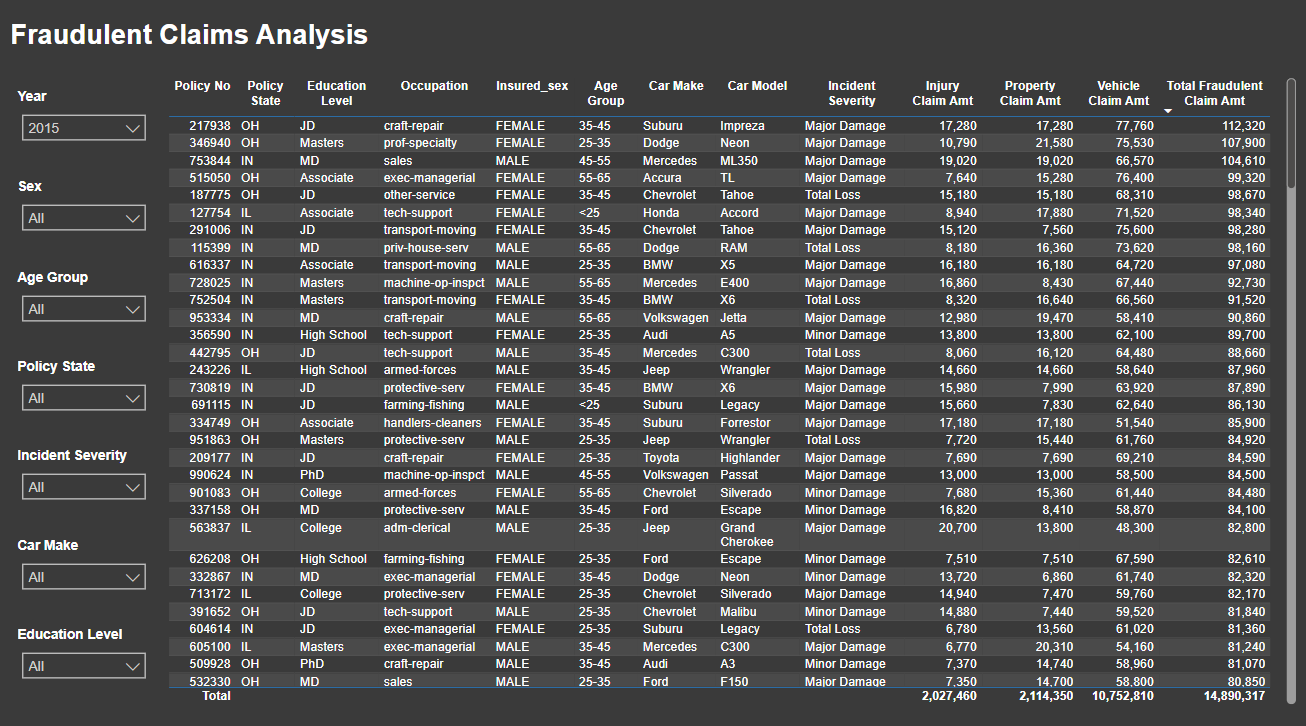

Layout of this report page (visuals, bound fields, positions):
{"tool":"powerbi","page":{"name":"Fraudulent Claims Detail","canvas":[1280,720],"ordinal":2},"visuals":[{"type":"slicer","title":"Policy State","fields":{"Values":["3_insurance_claims_python_processed_primary.policy_state"]},"box":[12.6,353.1,140.1,53.5],"z":0},{"type":"slicer","title":"Sex","fields":{"Values":["3_insurance_claims_python_processed_primary.insured_sex"]},"box":[12.6,178.3,140.1,54.5],"z":1000},{"type":"slicer","title":"Age Group","fields":{"Values":["3_insurance_claims_python_processed_primary.age_group"]},"box":[12.6,266.2,140.1,53.5],"z":2000},{"type":"slicer","title":"Year","fields":{"Values":["3_insurance_claims_python_processed_primary.incident_year"]},"box":[12.6,90.5,140.1,54.5],"z":3000},{"type":"tableEx","fields":{"Values":["3_insurance_claims_python_processed_primary.policy_number","3_insurance_claims_python_processed_primary.policy_state","3_insurance_claims_python_processed_primary.insured_education_level","3_insurance_claims_python_processed_primary.insured_occupation","3_insurance_claims_python_processed_primary.insured_sex","3_insurance_claims_python_processed_primary.age_group","3_insurance_claims_python_processed_primary.auto_make","3_insurance_claims_python_processed_primary.auto_model","3_insurance_claims_python_processed_primary.incident_severity","Sum(3_insurance_claims_python_processed_primary.injury_claim)","Sum(3_insurance_claims_python_processed_primary.property_claim)","Sum(3_insurance_claims_python_processed_primary.vehicle_claim)"]},"box":[159.5,74.9,1106.9,618.6],"z":4000},{"type":"slicer","title":"Incident Severity","fields":{"Values":["3_insurance_claims_python_processed_primary.incident_severity"]},"box":[12.6,440,140.1,53.5],"z":5000},{"type":"slicer","title":"Car Make","fields":{"Values":["3_insurance_claims_python_processed_primary.auto_make"]},"box":[12.6,526.8,140.1,53.5],"z":6000},{"type":"slicer","title":"Education Level","fields":{"Values":["3_insurance_claims_python_processed_primary.insured_education_level"]},"box":[12.6,613.7,140.1,53.5],"z":7000},{"type":"textbox","box":[5.8,17.5,371.6,46.7],"z":8000}]}

Visuals, with their boxes in screenshot pixels (x1, y1, x2, y2), scaled from the page's 1280x720 canvas onto the 1306x726 screenshot:
"Policy State" slicer: pyautogui.locateOnScreen(13, 356, 156, 410)
"Sex" slicer: pyautogui.locateOnScreen(13, 180, 156, 235)
"Age Group" slicer: pyautogui.locateOnScreen(13, 268, 156, 322)
"Year" slicer: pyautogui.locateOnScreen(13, 91, 156, 146)
tableEx - 3_insurance_claims_python_processed_primary.policy_number x 3_insurance_claims_python_processed_primary.policy_state: pyautogui.locateOnScreen(163, 76, 1292, 699)
"Incident Severity" slicer: pyautogui.locateOnScreen(13, 444, 156, 498)
"Car Make" slicer: pyautogui.locateOnScreen(13, 531, 156, 585)
"Education Level" slicer: pyautogui.locateOnScreen(13, 619, 156, 673)
textbox: pyautogui.locateOnScreen(6, 18, 385, 65)
